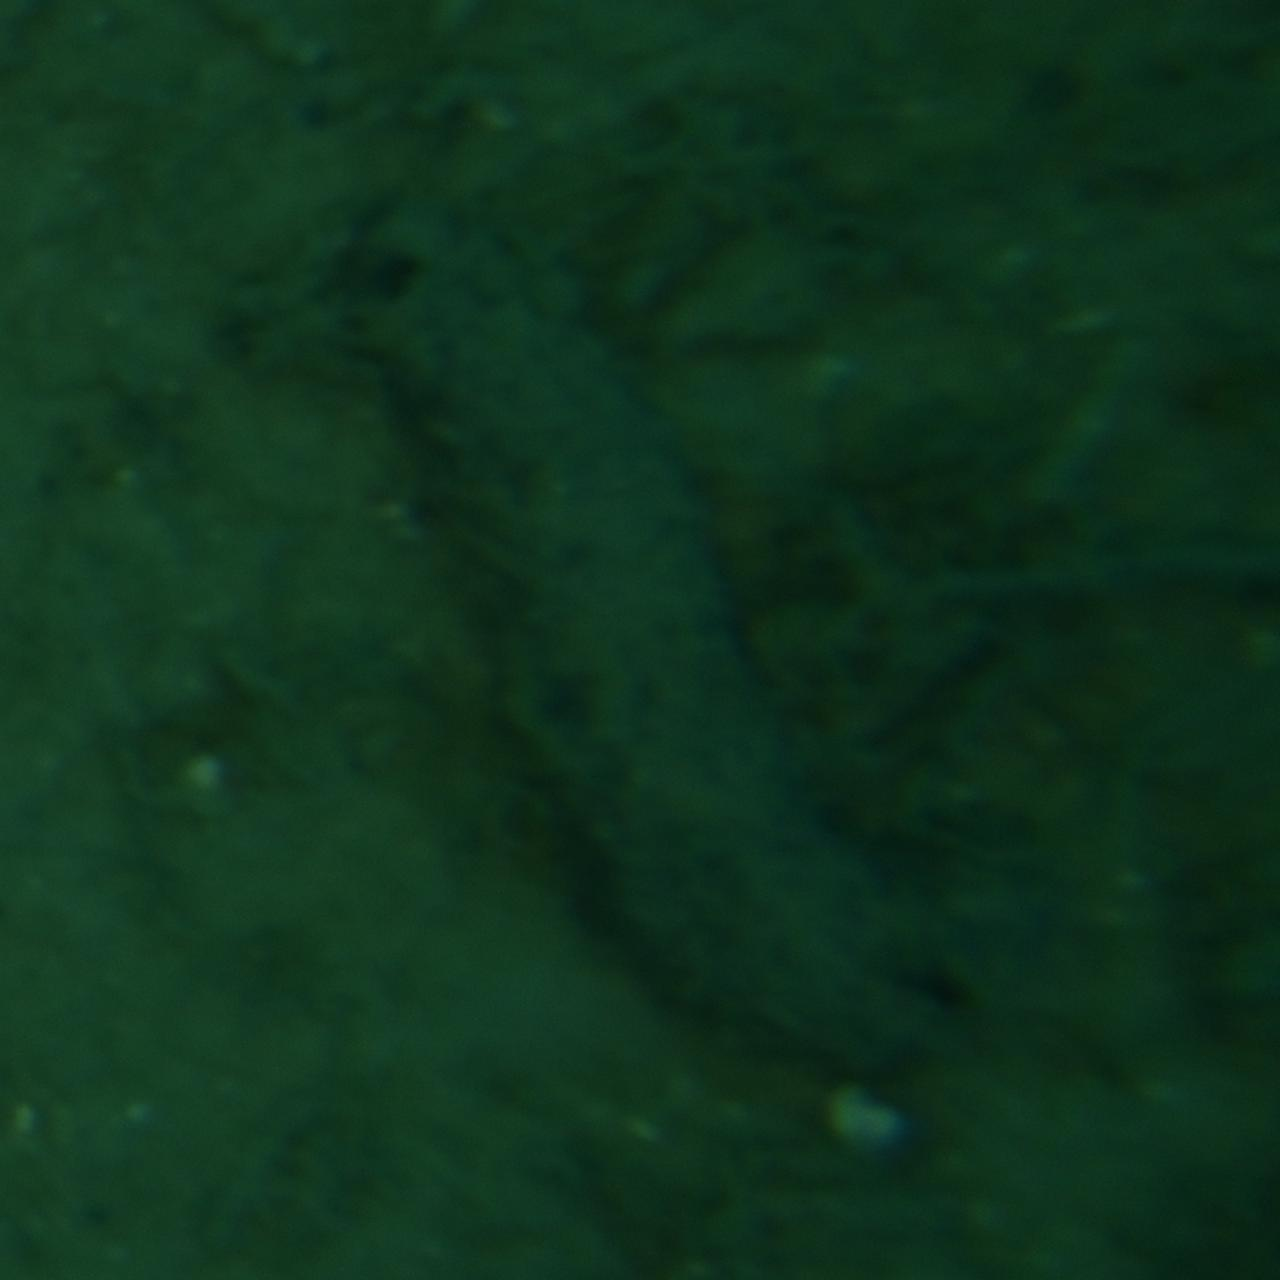Holothuria tubulosa: (322, 167, 958, 1113)
